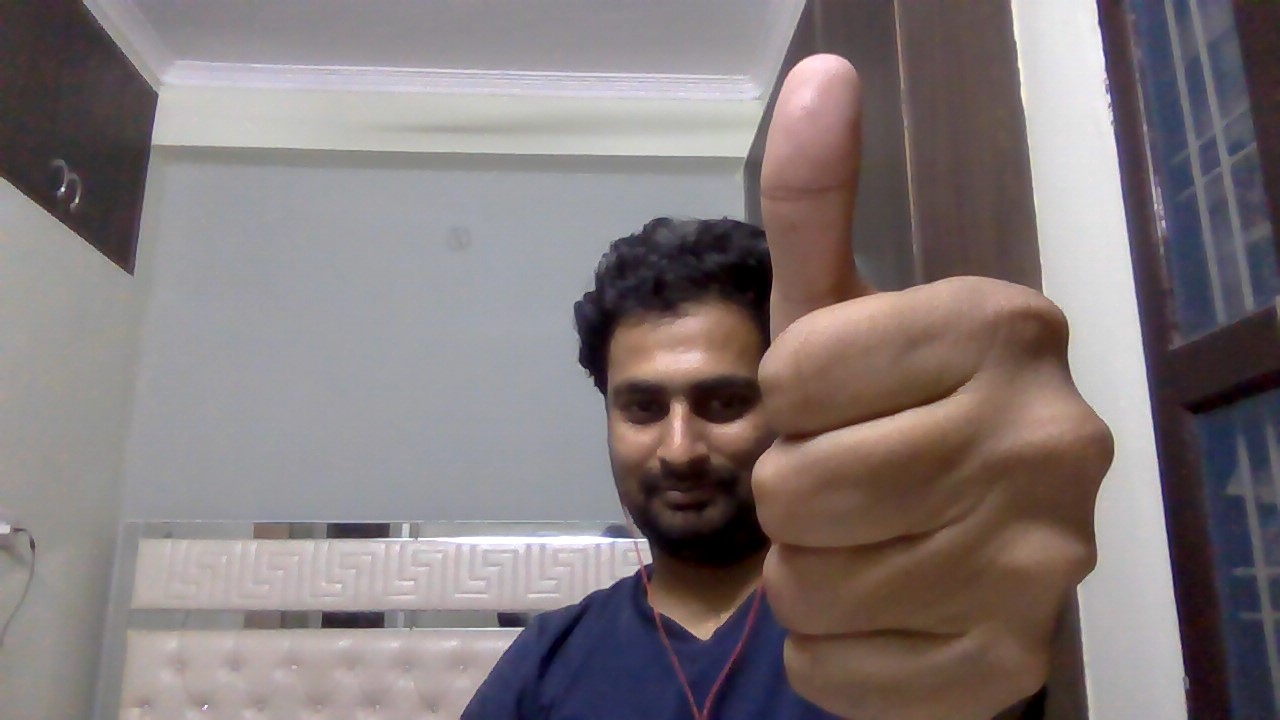Save: (701, 49, 1133, 711)
